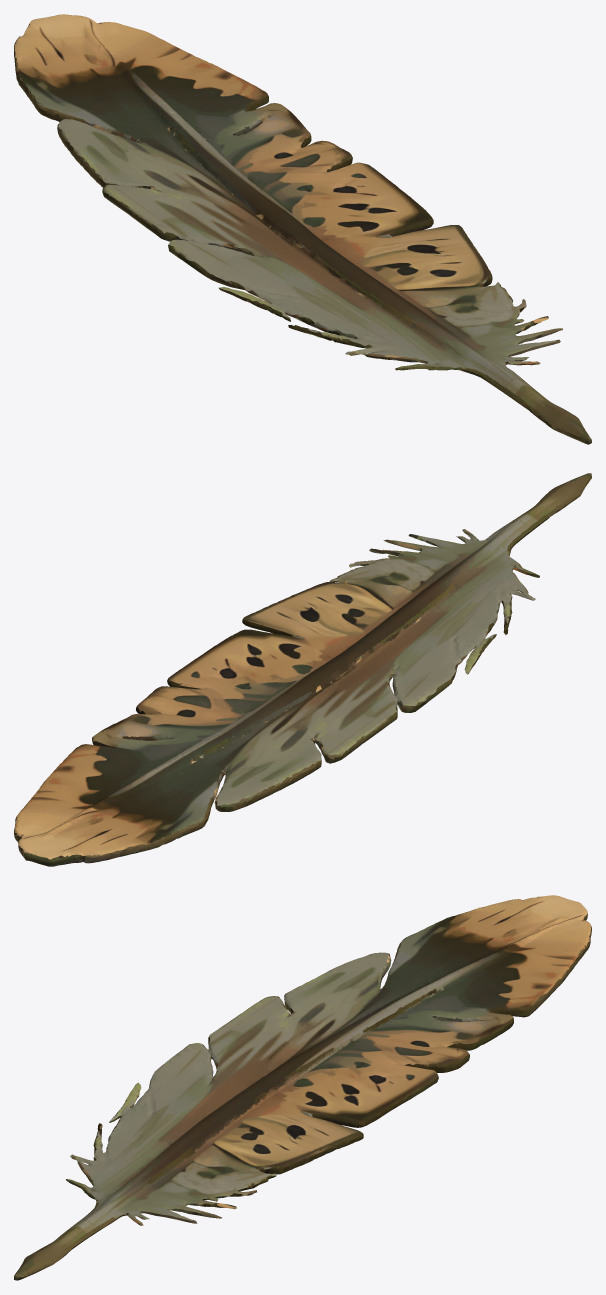
The model's file is item_feather.glb.
The picture shows the model from 3 angles, top to bottom: view 1: azimuth 30°, elevation 25°; view 2: azimuth 150°, elevation 25°; view 3: azimuth 330°, elevation 25°; orthographic projection. The views are drawn at different scales.
Visible parts, largest first — view 1: item_feather; view 2: item_feather; view 3: item_feather.
Part boxes in pixels (box(x1,y1,x2,y2)): item_feather: box(14, 14, 591, 444); item_feather: box(14, 473, 591, 866); item_feather: box(14, 895, 591, 1280).
Size of the model in its own units: 0.0614 by 0.00584 by 0.25.
1 material, 1 textured.
